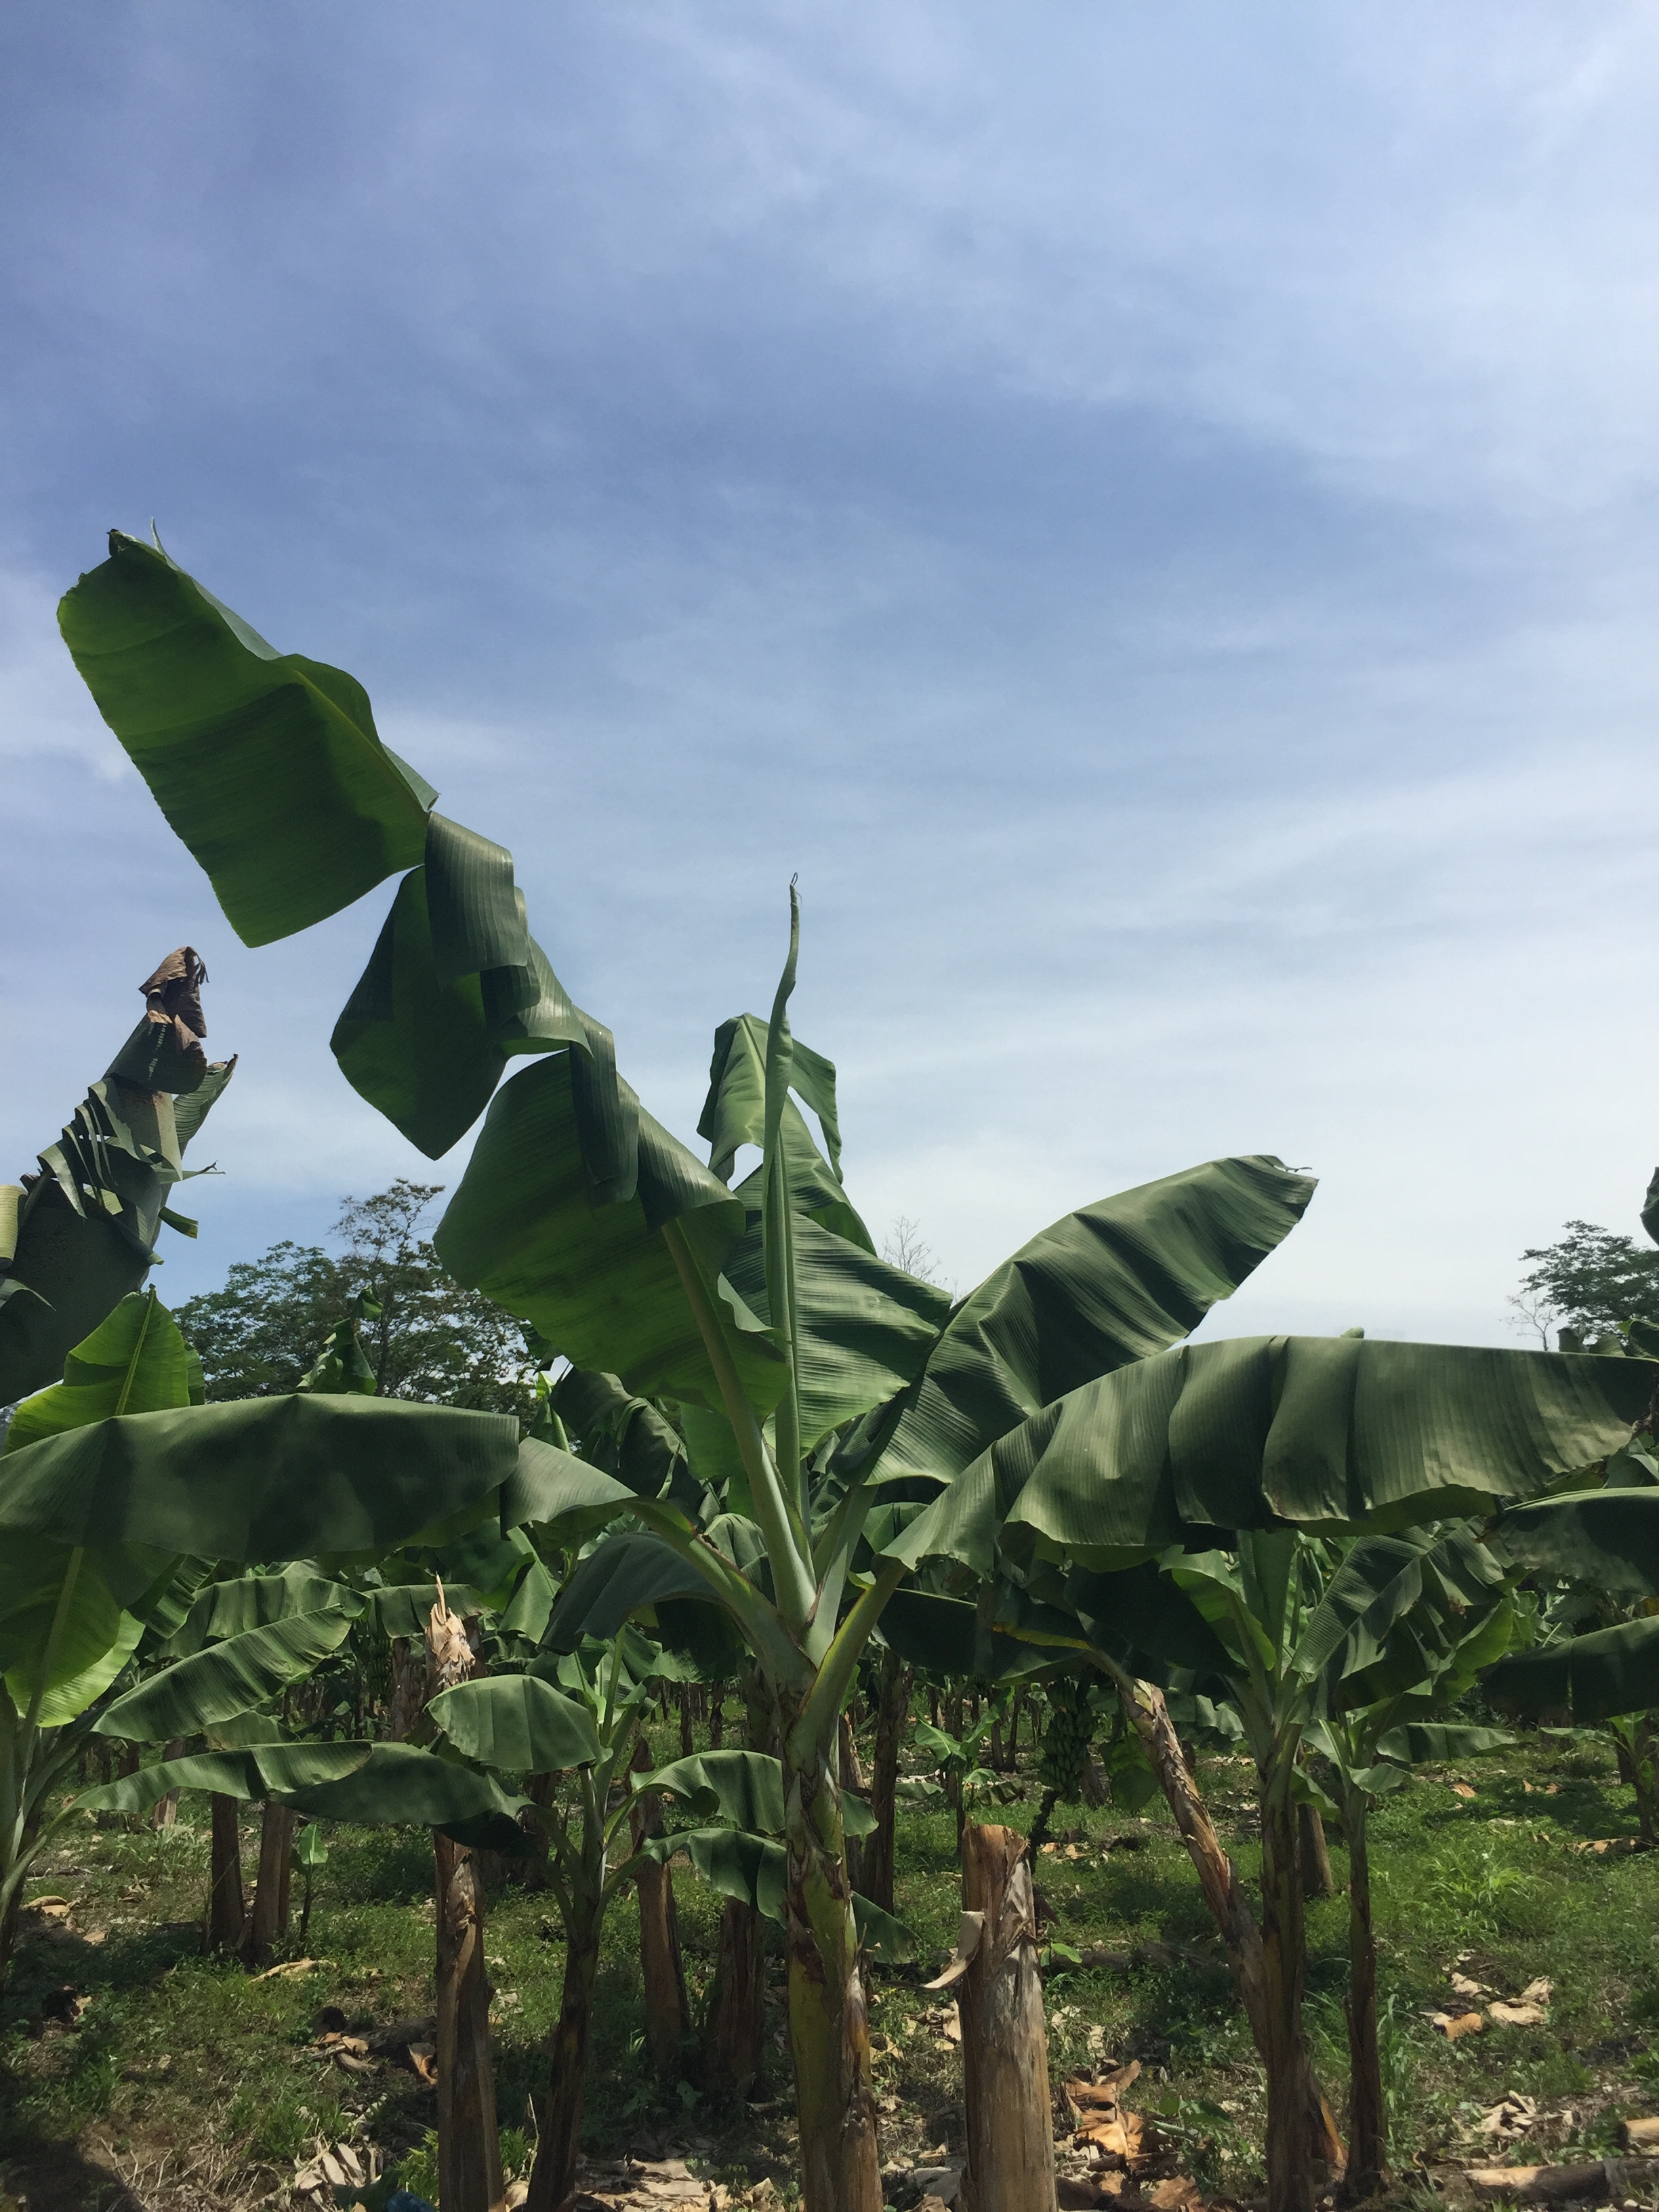candleleafs: (760, 873, 803, 1517)
